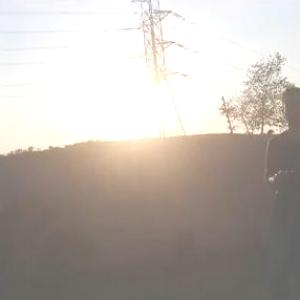follow: (260, 83, 300, 299)
